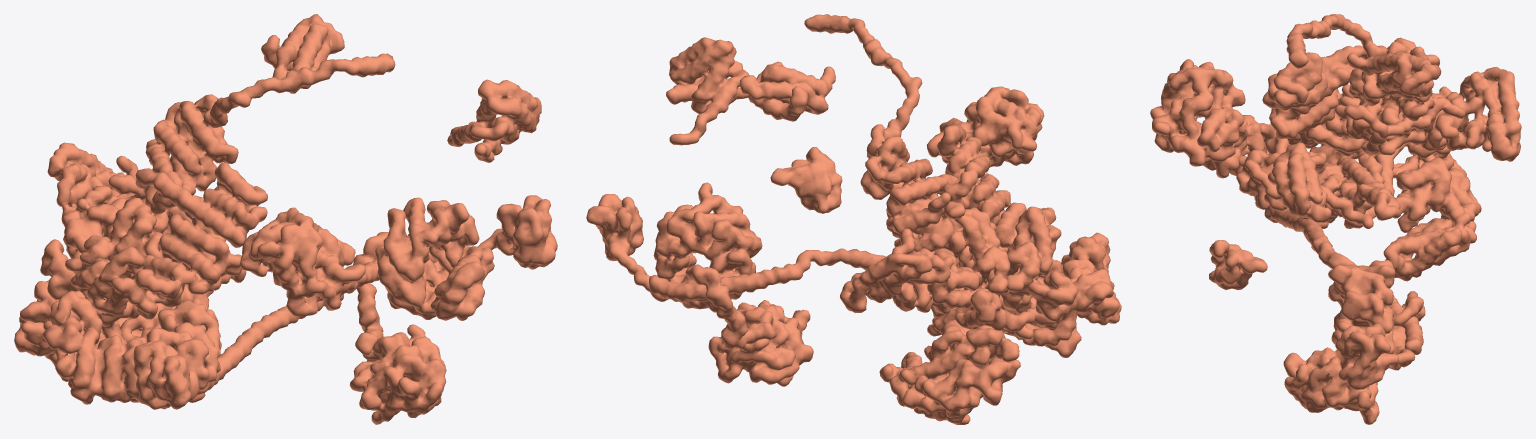
Rendered from translation_eif3_specimen.glb.
3 views of the same model, side by side, from view 1: azimuth 30°, elevation 25°; view 2: azimuth 150°, elevation 25°; view 3: azimuth 270°, elevation 25° (orthographic). The views are drawn at different scales.
Parts seen in each view (by area): view 1: GEO-eIF3-a, GEO-eIF3-c, GEO-eIF3-b, GEO-eIF3-m, GEO-eIF3-d, GEO-eIF3-e, GEO-eIF3-i, GEO-eIF3-j, GEO-eIF3-h, GEO-eIF3-f, GEO-eIF3-g, GEO-eIF3-k (+1 smaller); view 2: GEO-eIF3-c, GEO-eIF3-b, GEO-eIF3-a, GEO-eIF3-e, GEO-eIF3-m, GEO-eIF3-d, GEO-eIF3-j, GEO-eIF3-i, GEO-eIF3-k, GEO-eIF3-l, GEO-eIF3-g, GEO-eIF3-f; view 3: GEO-eIF3-d, GEO-eIF3-c, GEO-eIF3-a, GEO-eIF3-b, GEO-eIF3-l, GEO-eIF3-e, GEO-eIF3-j, GEO-eIF3-i, GEO-eIF3-h, GEO-eIF3-g, GEO-eIF3-f, GEO-eIF3-m (+1 smaller).
Part boxes in pixels (x1,y1,x2,y2): GEO-eIF3-a: [71, 162, 435, 409]; GEO-eIF3-c: [65, 14, 395, 274]; GEO-eIF3-b: [353, 195, 557, 355]; GEO-eIF3-m: [42, 290, 199, 409]; GEO-eIF3-d: [115, 186, 366, 316]; GEO-eIF3-e: [40, 142, 134, 300]; GEO-eIF3-i: [349, 324, 446, 424]; GEO-eIF3-j: [447, 79, 541, 162]; GEO-eIF3-h: [120, 269, 246, 372]; GEO-eIF3-f: [81, 318, 219, 407]; GEO-eIF3-g: [430, 254, 487, 320]; GEO-eIF3-k: [14, 317, 68, 381]; GEO-eIF3-c: [740, 14, 1010, 308]; GEO-eIF3-b: [586, 182, 776, 349]; GEO-eIF3-a: [649, 124, 1061, 329]; GEO-eIF3-e: [840, 248, 1006, 336]; GEO-eIF3-m: [1022, 232, 1121, 346]; GEO-eIF3-d: [886, 86, 1044, 254]; GEO-eIF3-j: [666, 37, 783, 145]; GEO-eIF3-i: [708, 300, 813, 386]; GEO-eIF3-k: [902, 330, 1020, 424]; GEO-eIF3-l: [879, 317, 1019, 406]; GEO-eIF3-g: [770, 147, 842, 213]; GEO-eIF3-f: [931, 258, 1081, 357]; GEO-eIF3-d: [1150, 59, 1465, 166]; GEO-eIF3-c: [1286, 14, 1441, 183]; GEO-eIF3-a: [1262, 45, 1423, 354]; GEO-eIF3-b: [1328, 260, 1425, 389]; GEO-eIF3-l: [1344, 146, 1471, 281]; GEO-eIF3-e: [1375, 67, 1521, 196]; GEO-eIF3-j: [1244, 142, 1373, 228]; GEO-eIF3-i: [1283, 347, 1379, 424]; GEO-eIF3-h: [1264, 152, 1400, 228]; GEO-eIF3-g: [1209, 240, 1267, 289]; GEO-eIF3-f: [1236, 137, 1371, 214]; GEO-eIF3-m: [1203, 115, 1329, 178].
Size of the model in its own units: 7.6 by 5.4 by 5.07.
